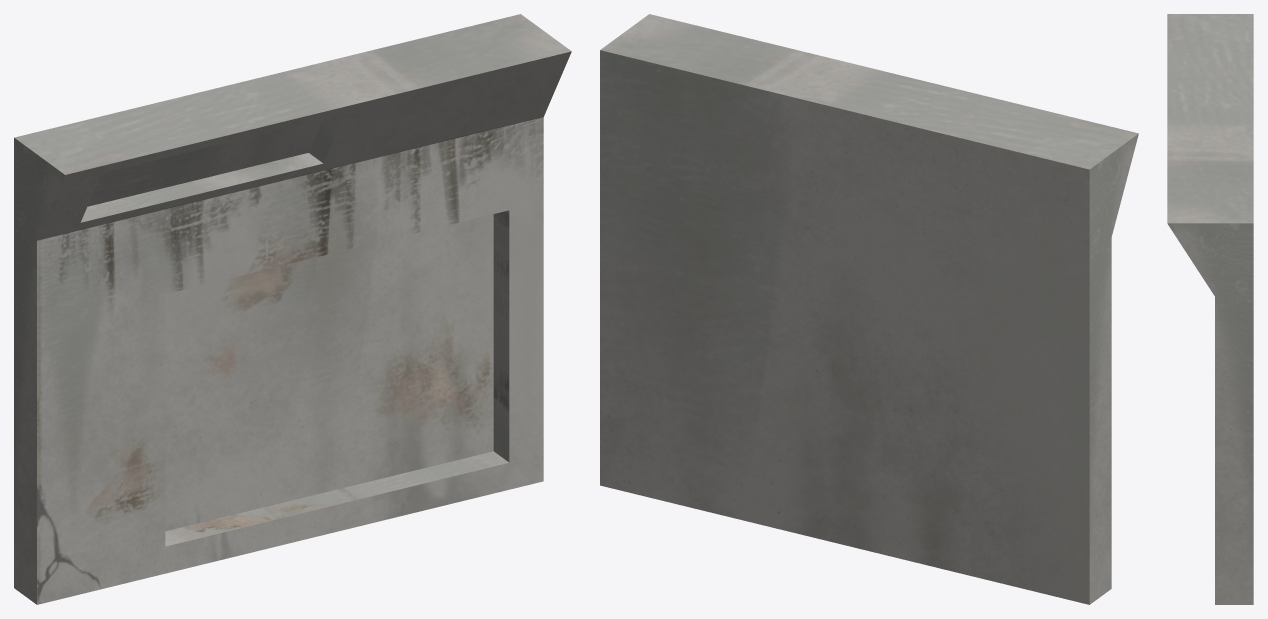
File: wall_06.fbx
3 views of the same model, side by side, from view 1: azimuth 30°, elevation 25°; view 2: azimuth 150°, elevation 25°; view 3: azimuth 270°, elevation 25° (orthographic). The views are drawn at different scales.
Parts seen in each view (by area): view 1: Box063; view 2: Box063; view 3: Box063.
Boxes of the visible parts, left/top/right/bottom form: Box063: left=14, top=14, right=571, bottom=604; Box063: left=600, top=14, right=1138, bottom=604; Box063: left=1167, top=14, right=1253, bottom=604.
Bounding box in the file's own units: 471 × 400 × 82.21.
